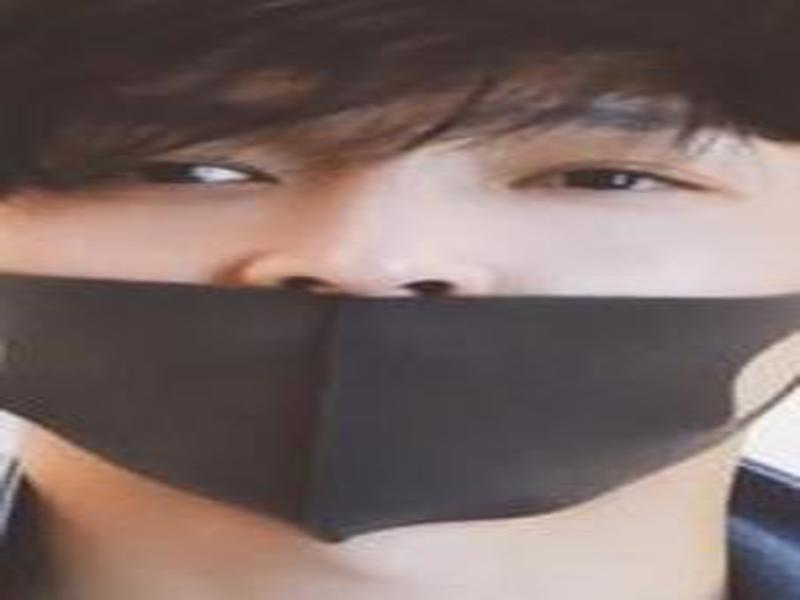with_mask: (1, 1, 797, 552)
